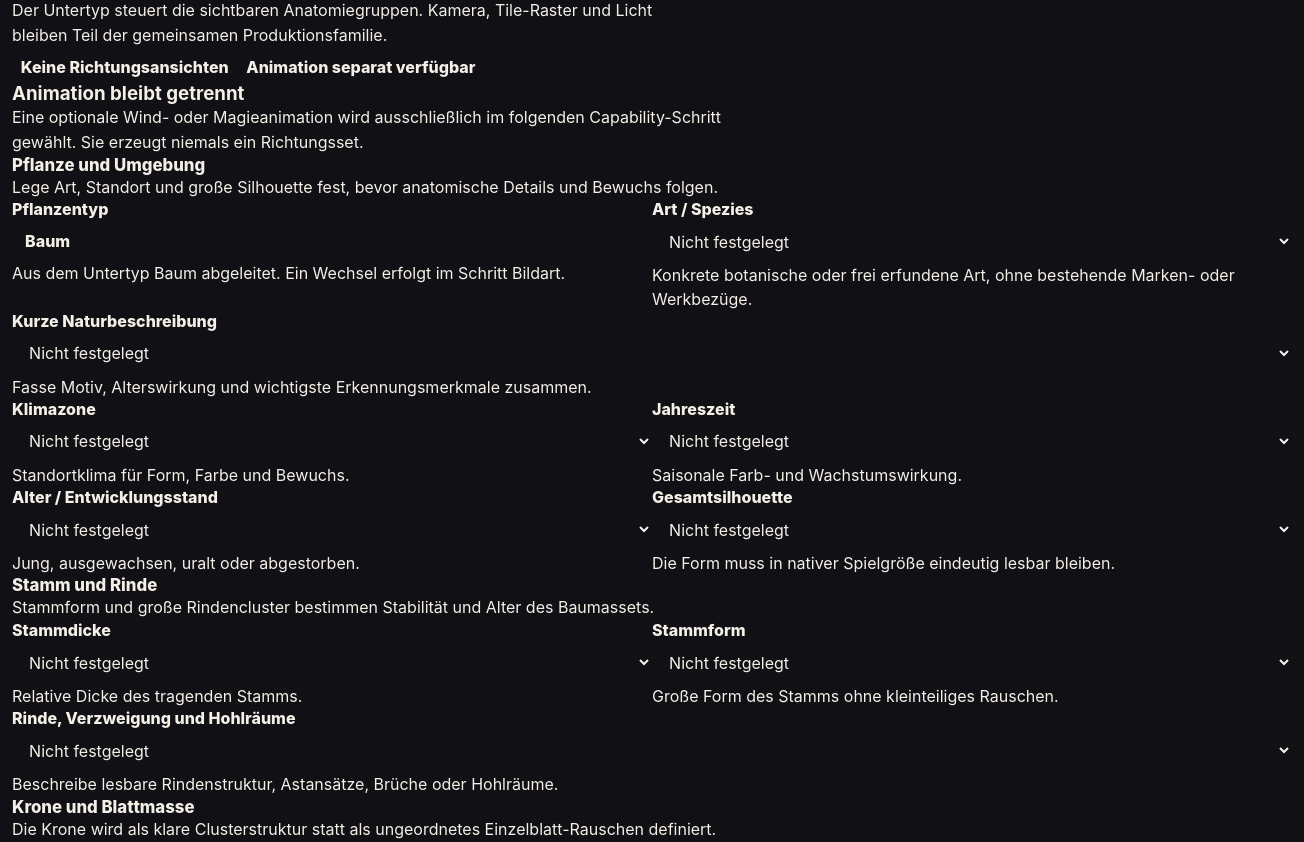
Test: NatureTreeEditor › offers bark and root presets before exposing a custom text field
Select "Tiefe Rindenfurchen, niedrige Astansätze und ein kleiner Hohlraum" in the dropdown labelled "Rinde, Verzweigung und Hohlräume" at {"x": 652, "y": 751}, box [12, 728, 1292, 773]
(page scrolled)
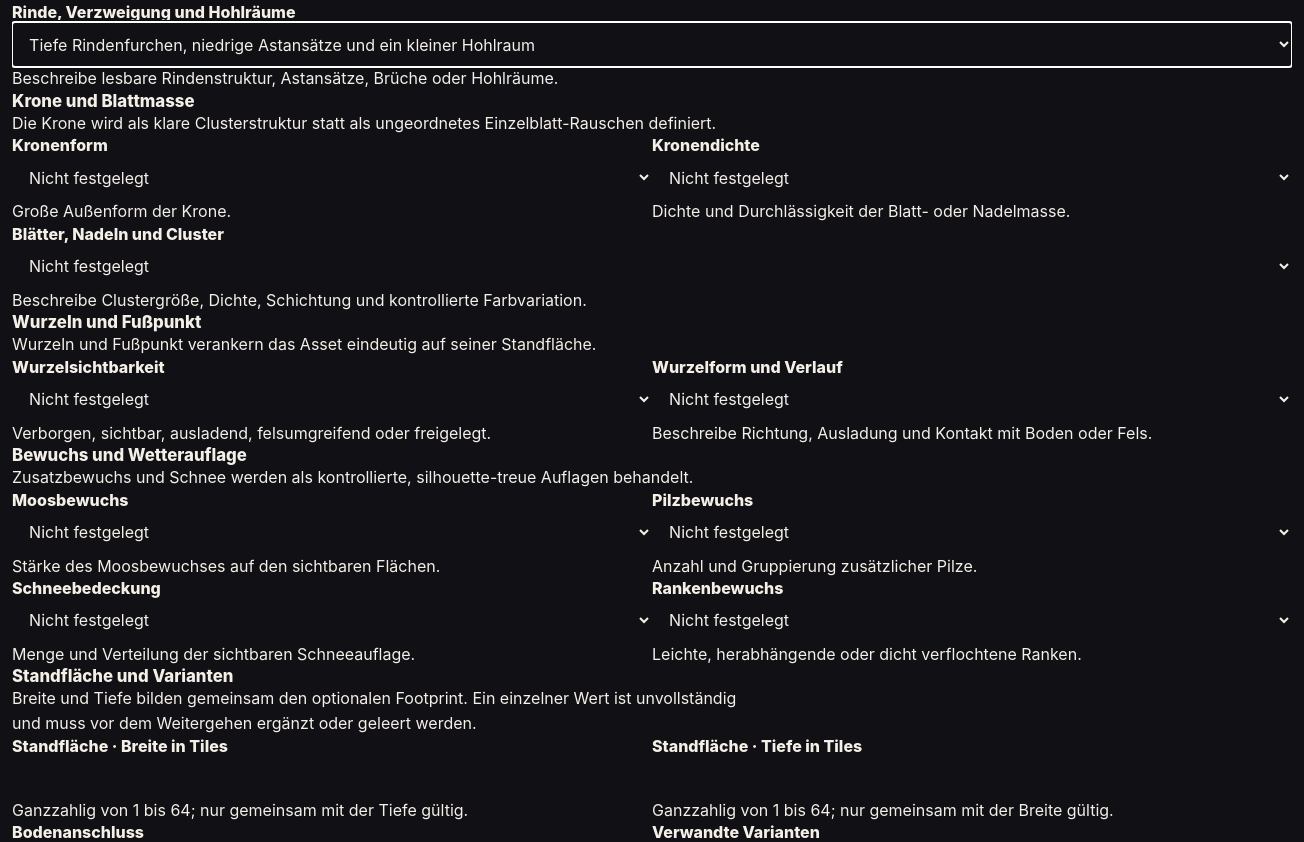
Select "Eigene Eingabe" in the dropdown labelled "Wurzelform und Verlauf" at {"x": 972, "y": 399}, box [652, 377, 1292, 422]
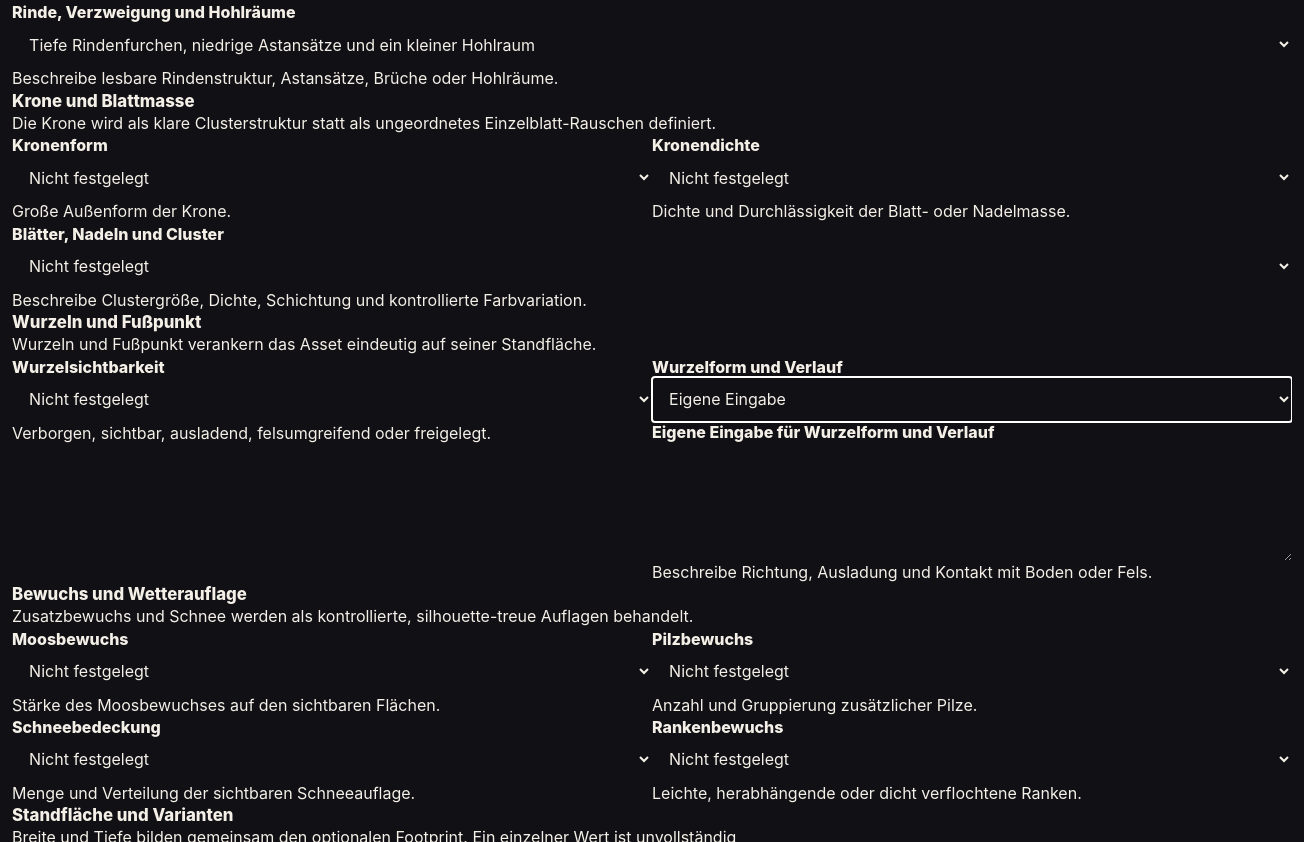
Check: the text box labelled "Eigene Eingabe für Wurzelform und Verlauf" is shown, box [652, 442, 1292, 561]
